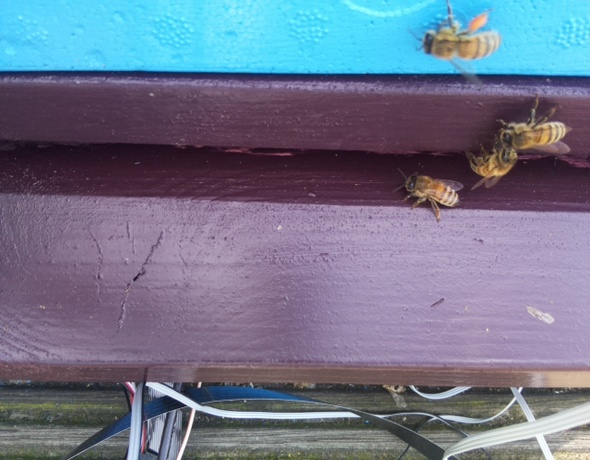no_pollen: (400, 167, 465, 218), (493, 115, 570, 153), (462, 143, 521, 183)
pollen: (419, 9, 503, 65)
